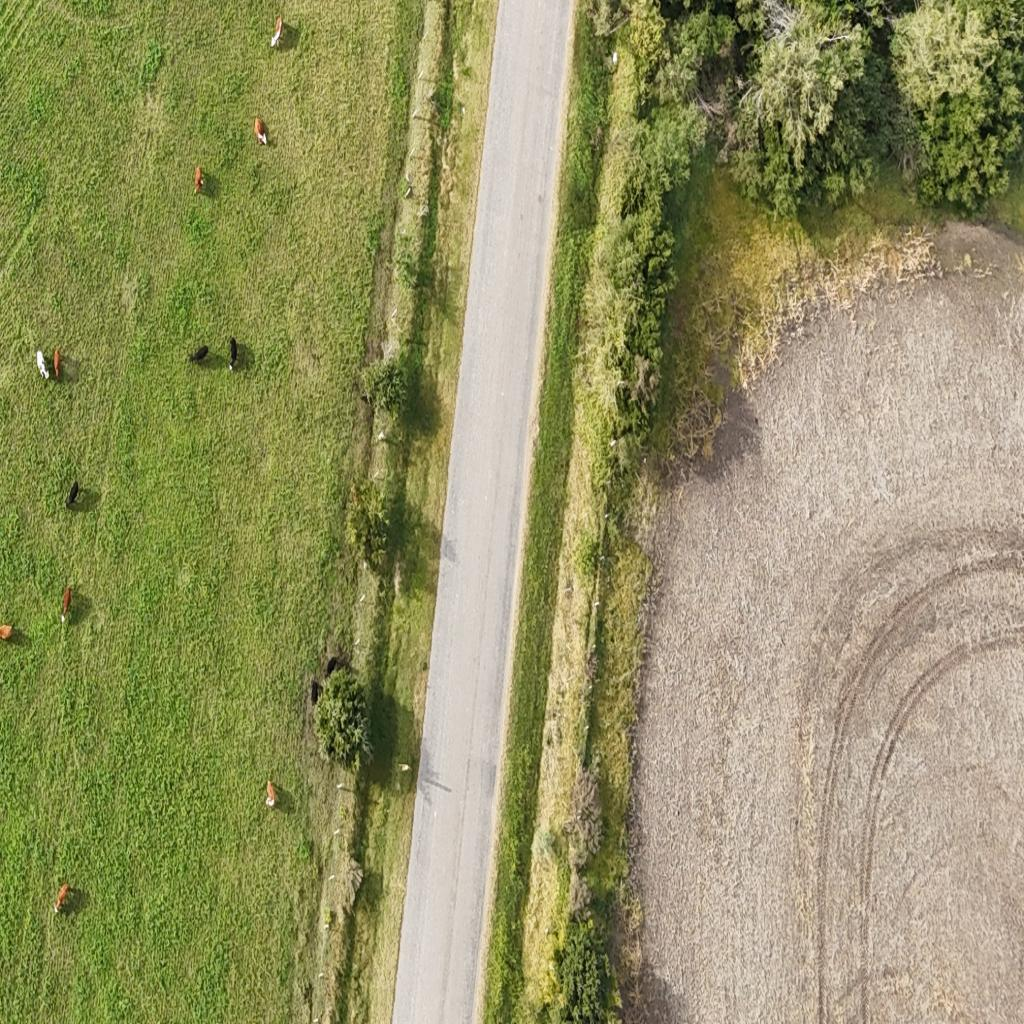cow: (55, 882, 74, 916), (61, 584, 73, 624), (324, 652, 339, 683), (188, 344, 209, 365), (254, 116, 268, 147), (65, 479, 79, 509), (36, 349, 49, 381), (265, 780, 277, 812), (270, 14, 282, 44), (0, 620, 16, 642), (228, 336, 237, 370), (194, 164, 204, 194), (310, 680, 320, 706), (54, 348, 61, 379)
